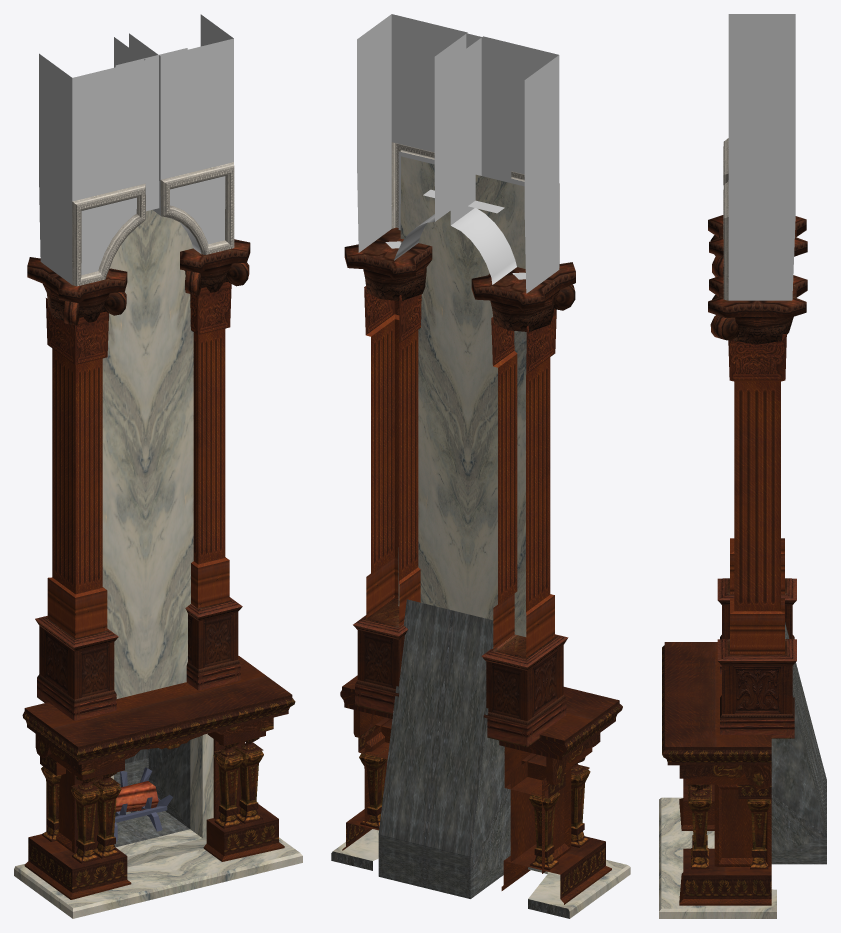
Rendered from FireplaceGrandHall.fbx.
3 renders of one model, left to right at view 1: azimuth 30°, elevation 25°; view 2: azimuth 150°, elevation 25°; view 3: azimuth 270°, elevation 25°, orthographic. The views are drawn at different scales.
Visible parts, largest first — view 1: GrandFireplace_LOD0; view 2: GrandFireplace_LOD0; view 3: GrandFireplace_LOD0.
Part boxes in pixels (left/top/right/bottom): GrandFireplace_LOD0: left=14, top=14, right=302, bottom=918; GrandFireplace_LOD0: left=331, top=14, right=630, bottom=918; GrandFireplace_LOD0: left=659, top=14, right=826, bottom=918.
Size of what is drawn, in the model's own units: 366 by 1227 by 231.
